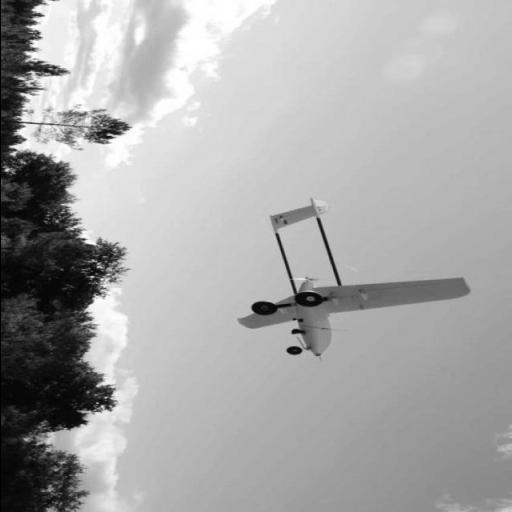uav: (224, 194, 476, 359)
